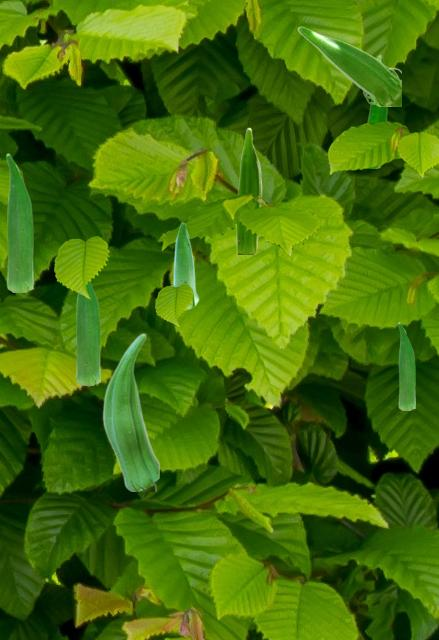okra: (102, 332, 158, 490), (297, 26, 400, 105), (6, 153, 32, 291), (236, 127, 261, 253), (75, 282, 99, 384), (171, 222, 198, 309), (367, 54, 387, 167), (398, 322, 414, 409)
